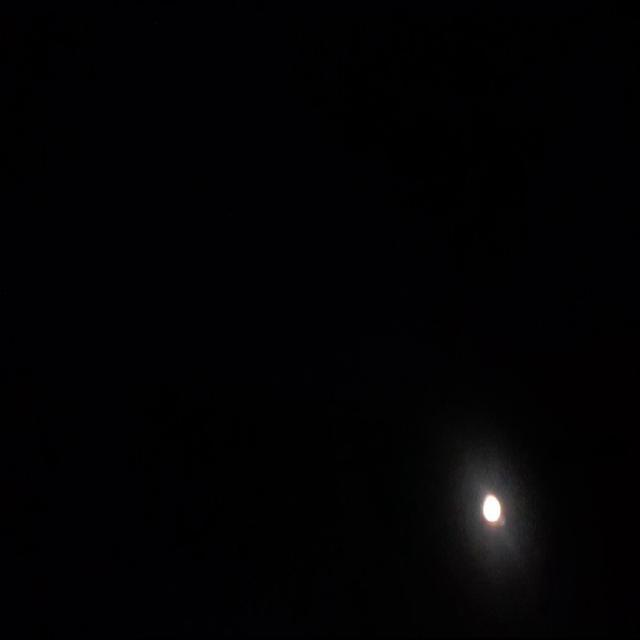moon: (482, 496, 505, 530)
